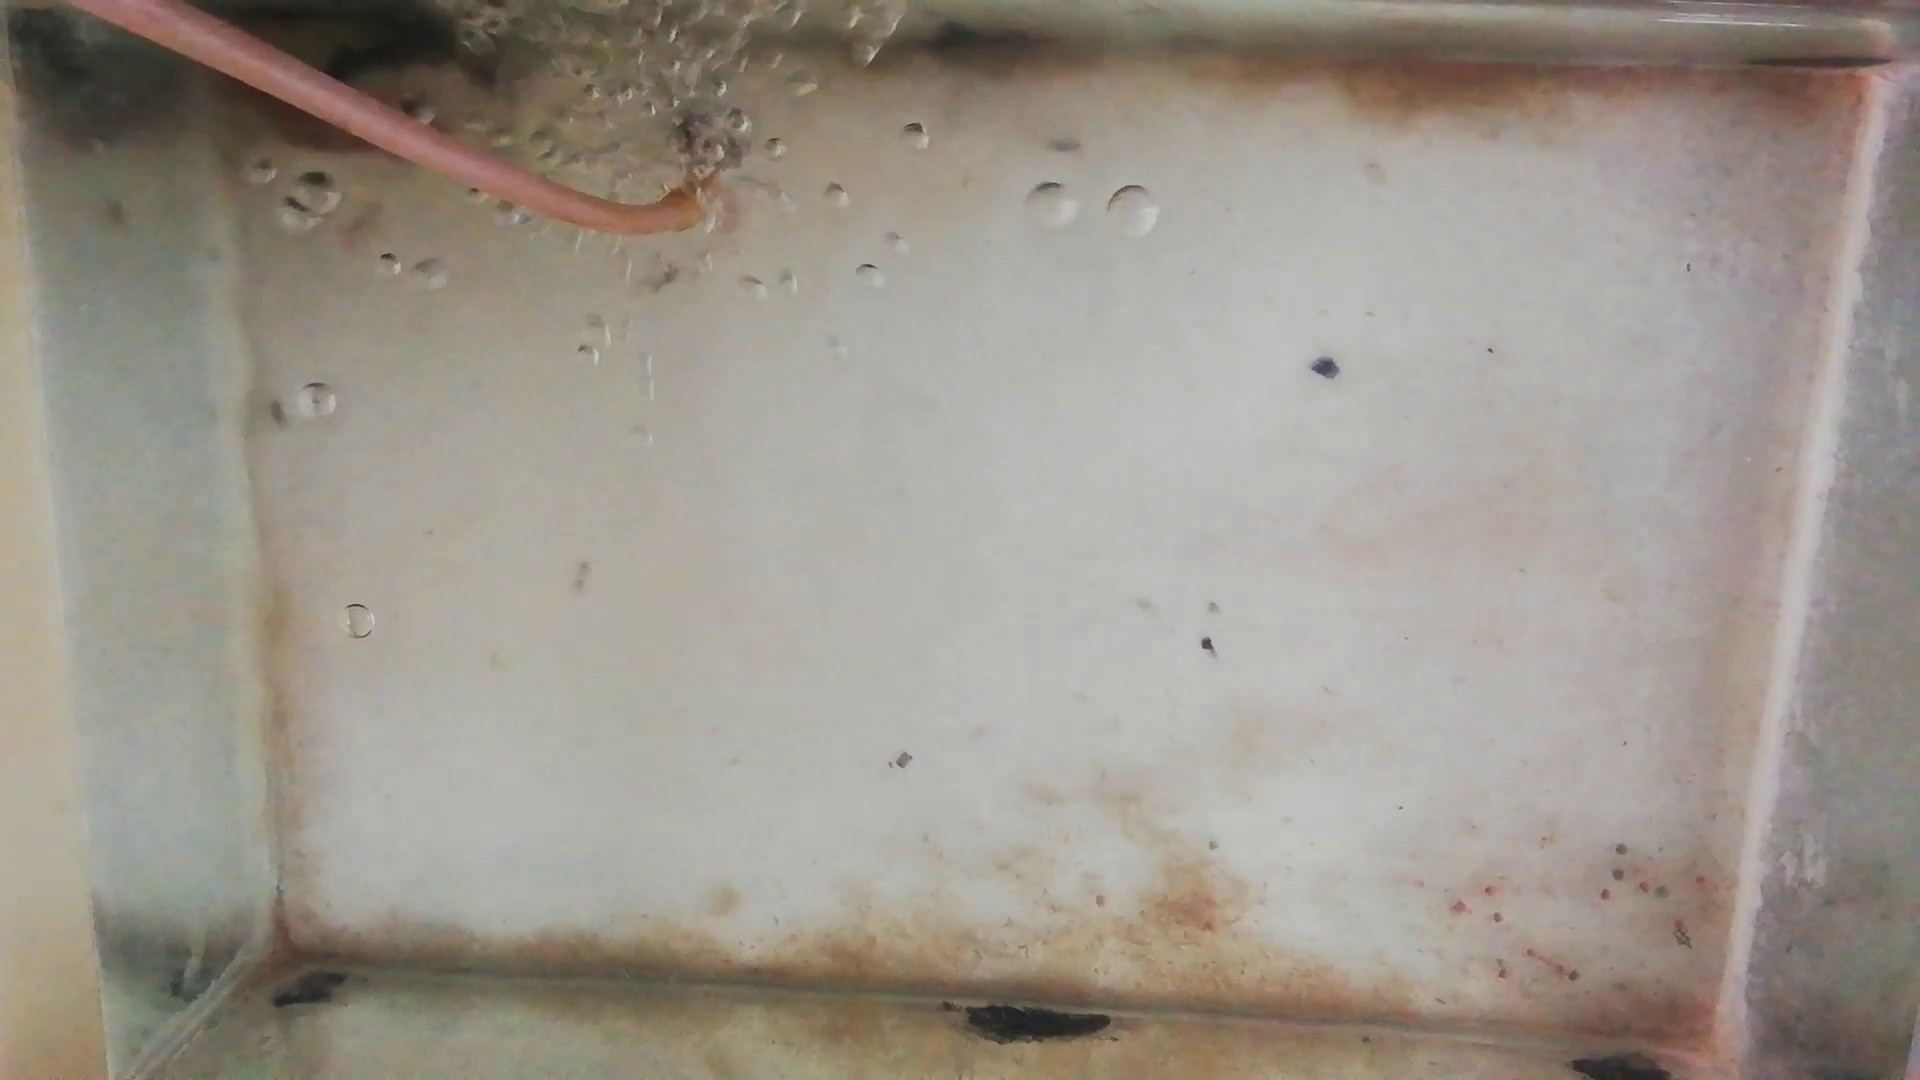fish: (315, 29, 509, 94), (243, 82, 367, 157)
